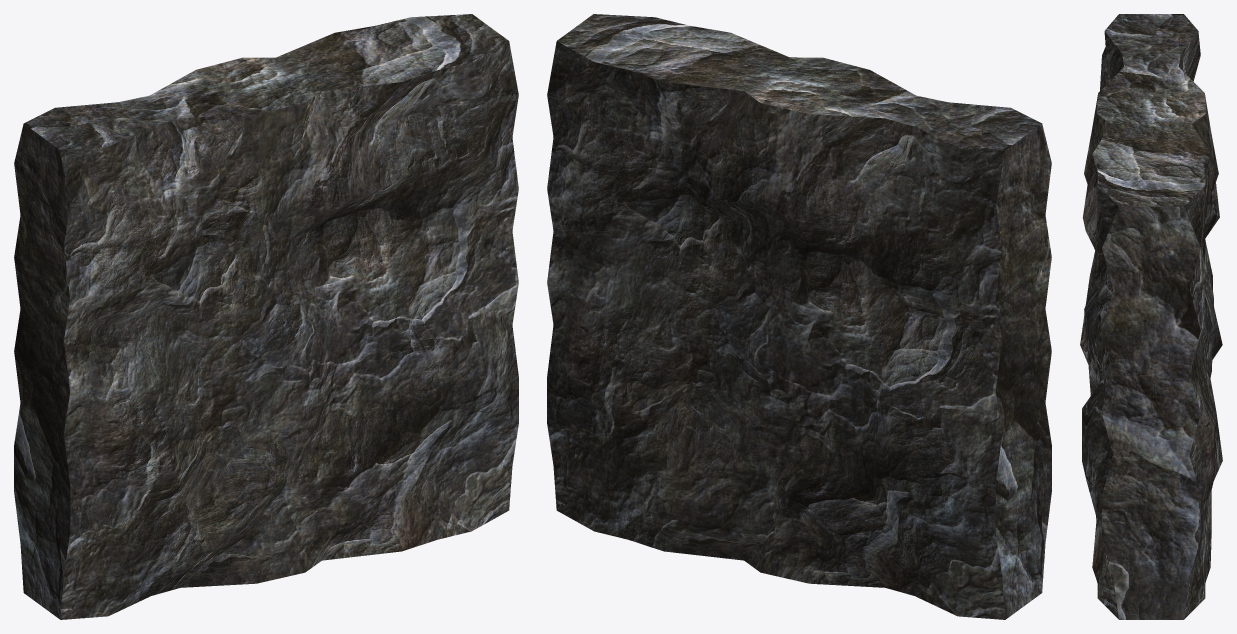
File: RockyWall.FBX
3 views of the same model, side by side, from view 1: azimuth 30°, elevation 25°; view 2: azimuth 150°, elevation 25°; view 3: azimuth 270°, elevation 25° (orthographic). The views are drawn at different scales.
Parts seen in each view (by area): view 1: RockyWall; view 2: RockyWall; view 3: RockyWall.
Boxes of the visible parts, box(x1,y1,x2,y2) form: RockyWall: box(14, 14, 518, 619); RockyWall: box(547, 14, 1051, 619); RockyWall: box(1080, 14, 1222, 619).
Size of the model in its own units: 100 by 100 by 31.33.
1 material, 1 textured.
